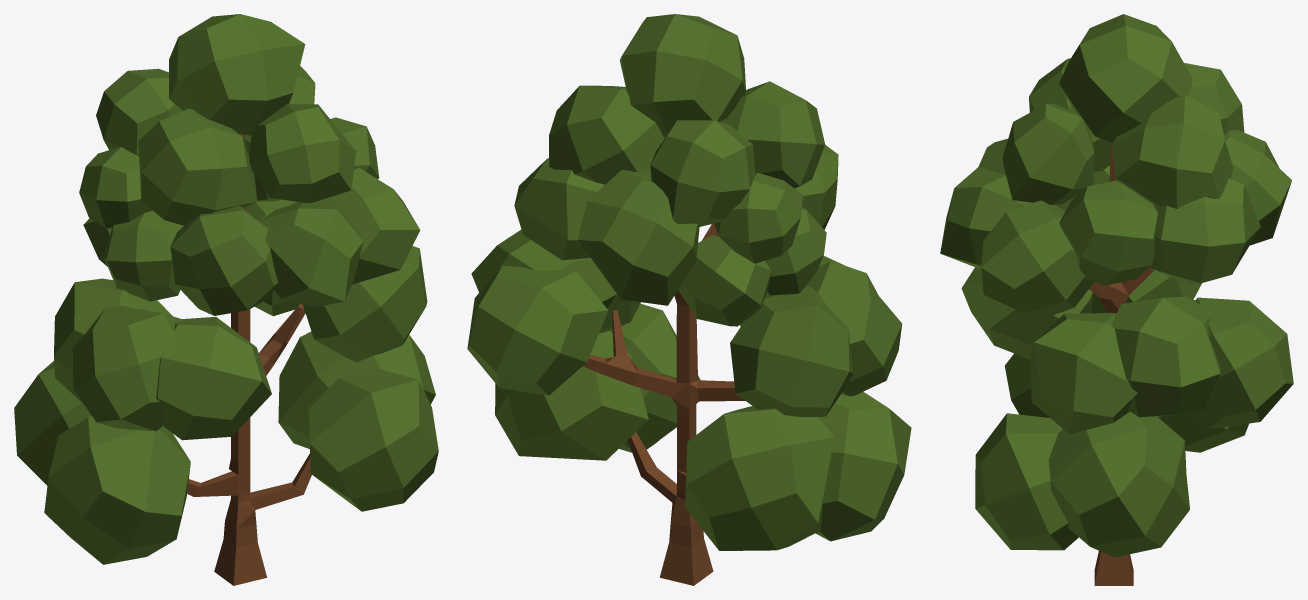
The model's file is Env_Pohon_01a.fbx.
3 renders of one model, left to right at view 1: azimuth 30°, elevation 25°; view 2: azimuth 150°, elevation 25°; view 3: azimuth 270°, elevation 25°, orthographic.
Visible parts, largest first — view 1: Pohon; view 2: Pohon; view 3: Pohon.
Part boxes in pixels (bbox=[...]): Pohon: bbox=[14, 14, 438, 585]; Pohon: bbox=[467, 14, 911, 585]; Pohon: bbox=[940, 14, 1293, 585].
Bounding box in the file's own units: 71.03 × 97.55 × 56.36.
